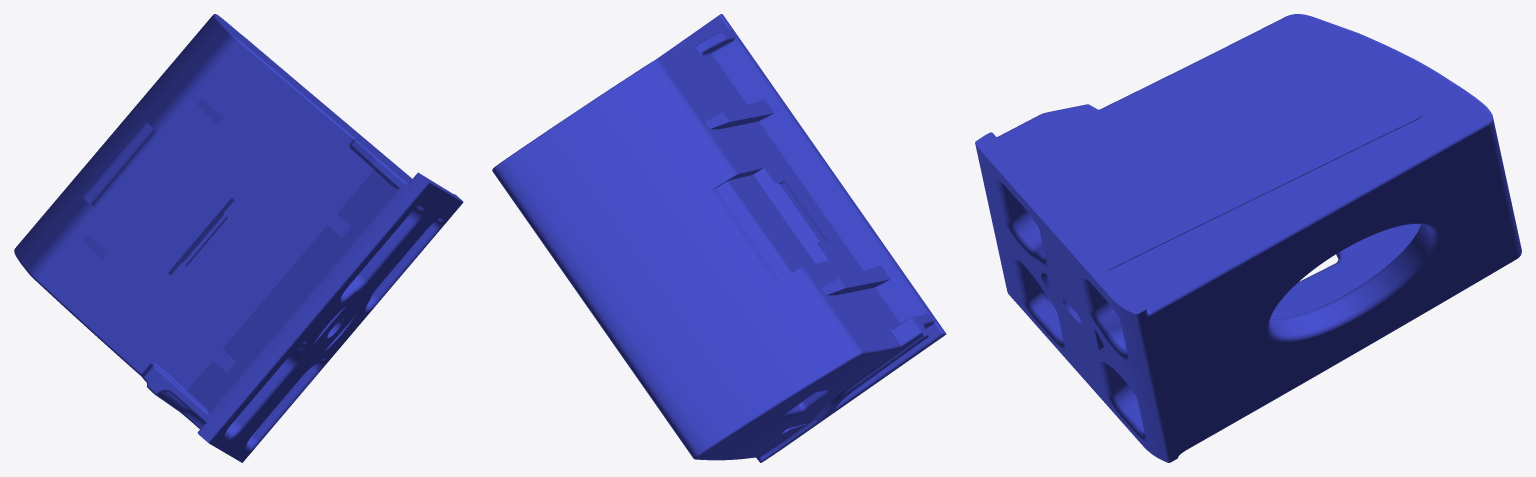
The model's file is ashhqt.glb.
The picture shows the model from 3 angles, left to right: view 1: azimuth 30°, elevation 25°; view 2: azimuth 150°, elevation 25°; view 3: azimuth 270°, elevation 25°; orthographic projection. The views are drawn at different scales.
Bounding box in the file's own units: 0.0832 × 0.0842 × 0.0877.
